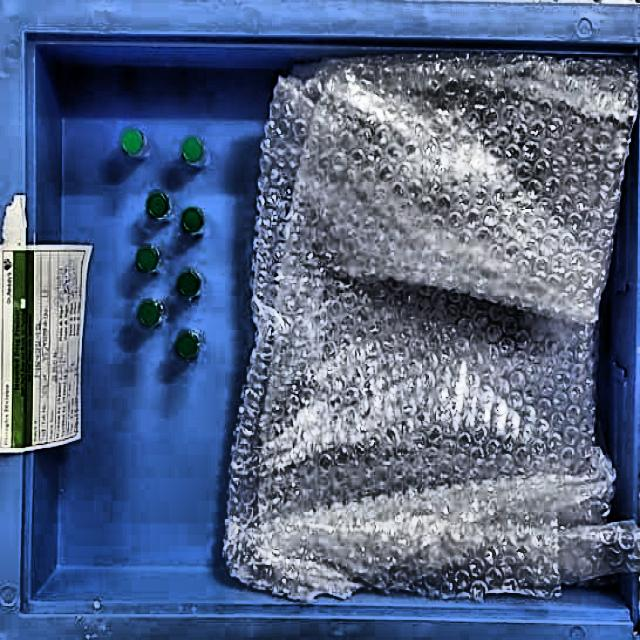vial: (176, 331, 200, 359), (120, 128, 144, 156), (147, 192, 171, 219), (180, 207, 205, 232), (136, 246, 159, 272), (178, 269, 198, 297), (138, 302, 161, 325), (182, 137, 202, 162)
